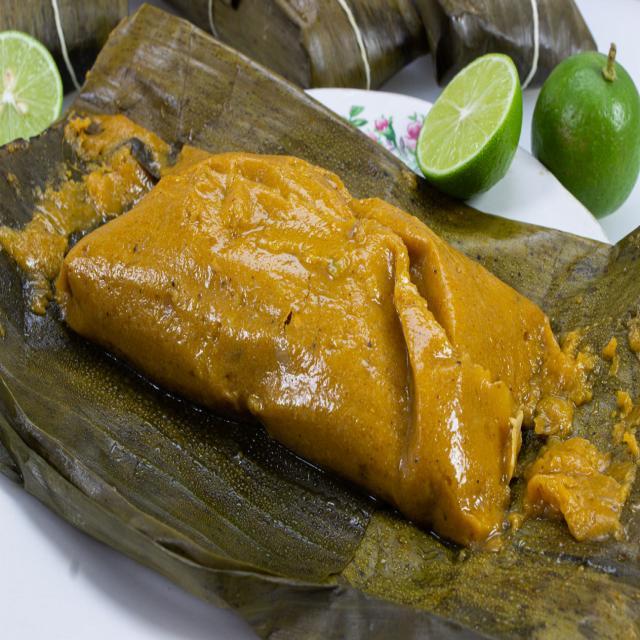papa: (69, 116, 553, 570)
